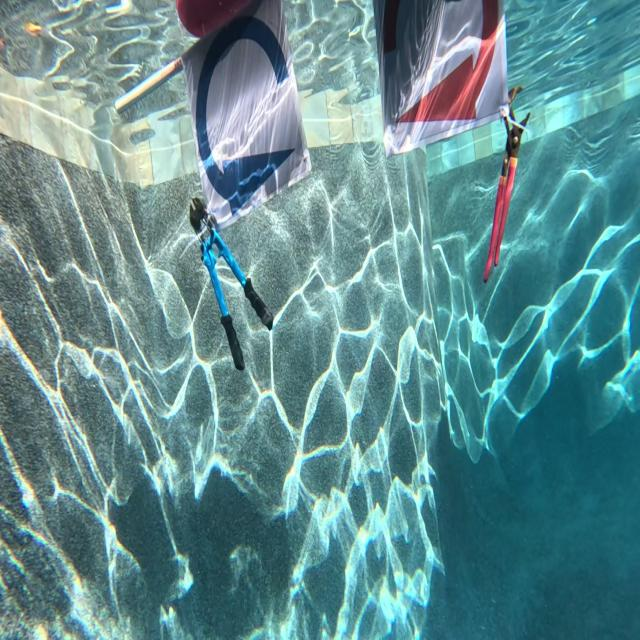blue_side: (190, 18, 308, 218)
red_side: (371, 0, 500, 138)
